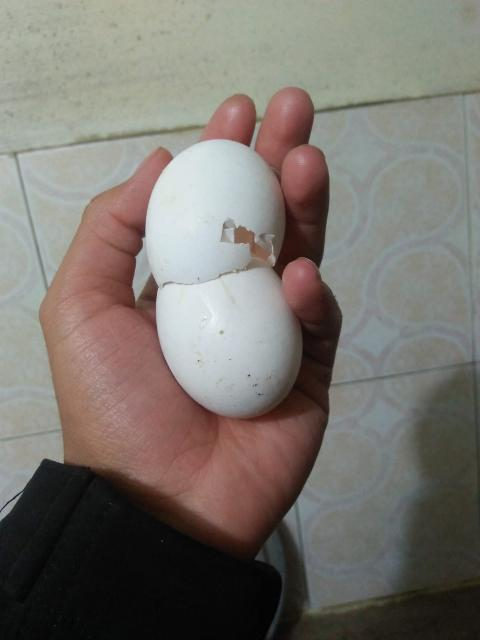Roto: (144, 271, 304, 419), (144, 140, 285, 269)
